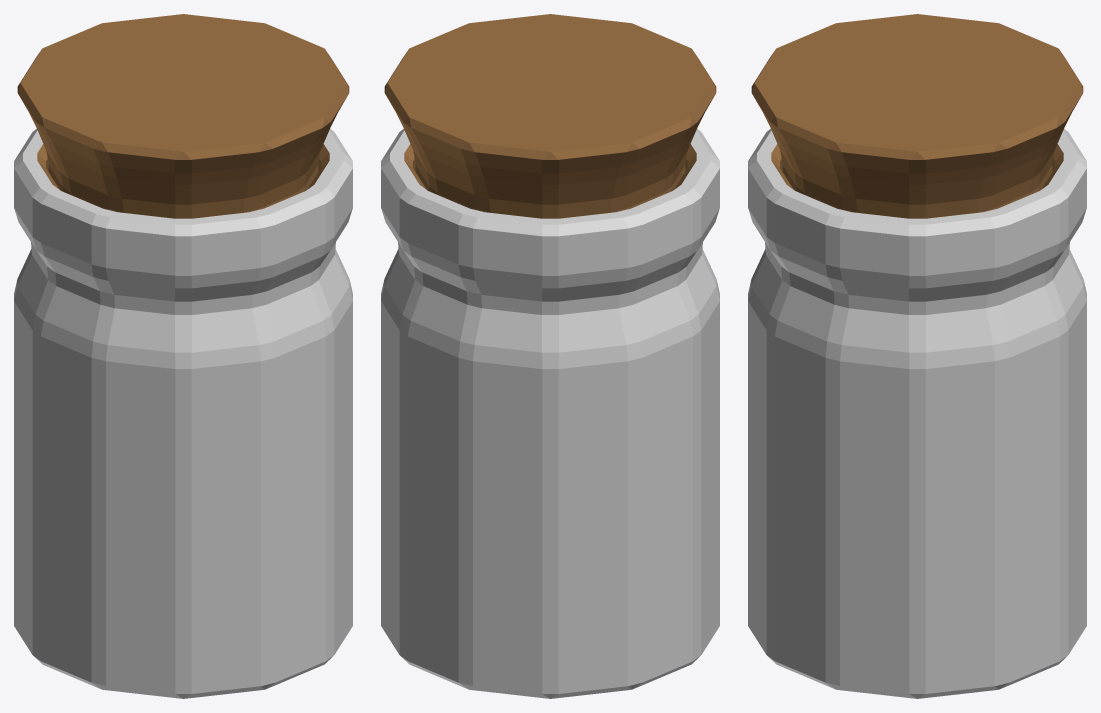
The model's file is base vial.fbx.
The picture shows the model from 3 angles, left to right: view 1: azimuth 30°, elevation 25°; view 2: azimuth 150°, elevation 25°; view 3: azimuth 270°, elevation 25°; orthographic projection.
Parts seen in each view (by area): view 1: Cylinder, Cylinder.001; view 2: Cylinder, Cylinder.001; view 3: Cylinder, Cylinder.001.
Boxes of the visible parts, bbox=[...] form: Cylinder: bbox=[14, 129, 352, 698]; Cylinder.001: bbox=[17, 14, 349, 218]; Cylinder: bbox=[381, 129, 719, 698]; Cylinder.001: bbox=[384, 14, 716, 218]; Cylinder: bbox=[748, 129, 1086, 698]; Cylinder.001: bbox=[751, 14, 1083, 218].
Size of the model in its own units: 395 by 703 by 395.
